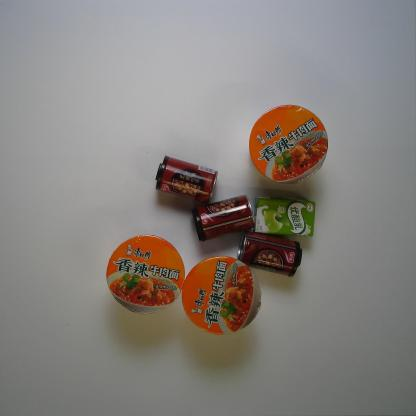Canned Food: (190, 193, 256, 244), (154, 154, 218, 206), (236, 230, 303, 278)
Instant Noodles: (248, 104, 329, 186), (106, 233, 186, 316), (181, 255, 262, 336)
Milk: (252, 195, 316, 238)
